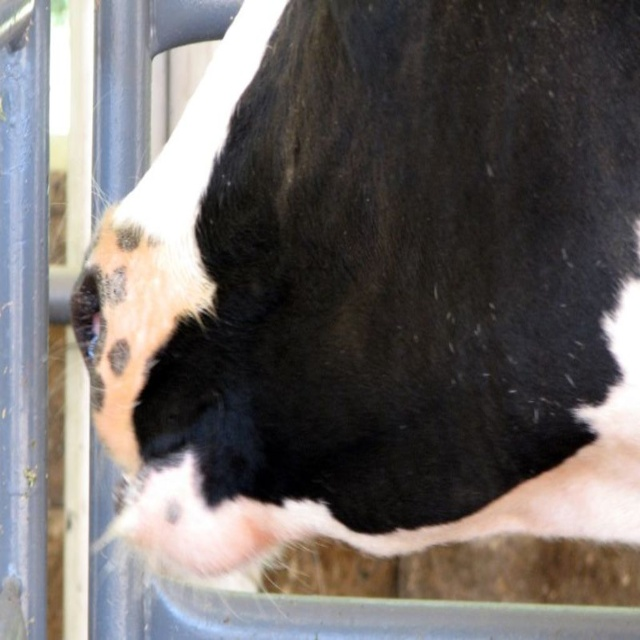Cattle: (69, 0, 639, 625)
